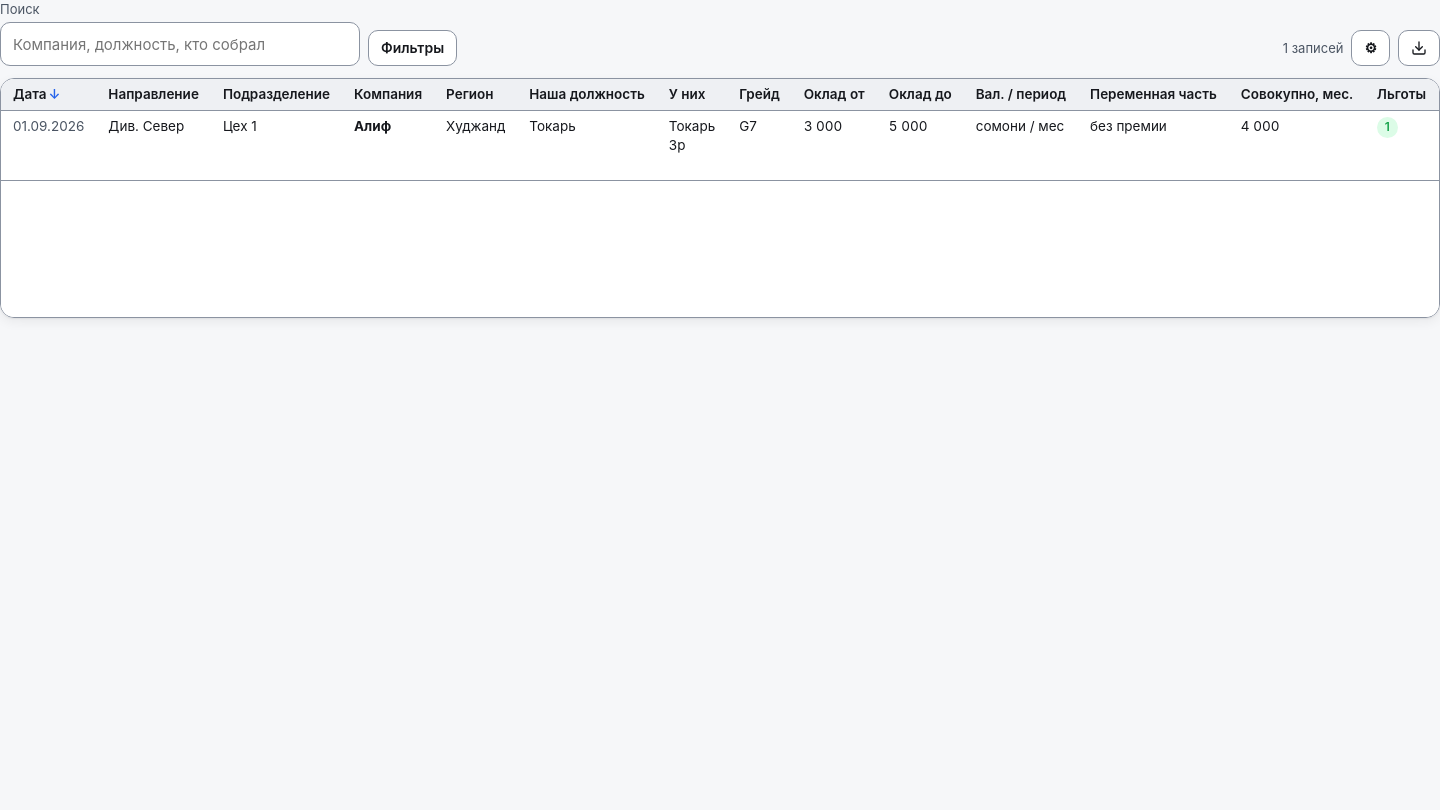
Test: кнопка «Фильтры» открывает панель со всеми фильтрами
expect the cell "Алиф" is shown: met, box 342,111 -> 434,180
Click the button "Фильтры".
click(413, 48)  # box 368,30 -> 457,66
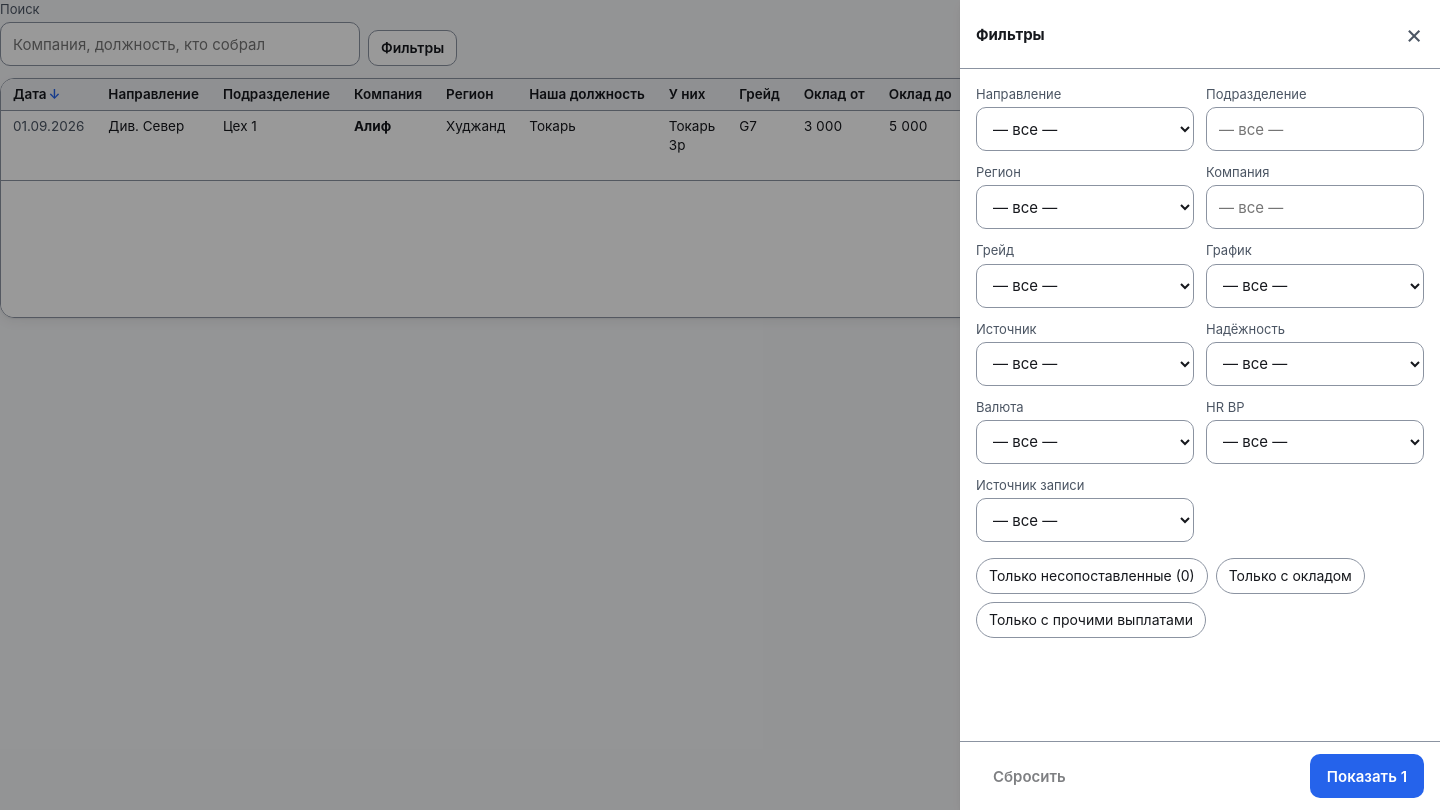
expect the dropdown labelled "Направление" is shown: met, box 976,107 -> 1194,151
expect the dropdown labelled "Подразделение" is shown: met, box 1206,107 -> 1424,151
expect the dropdown labelled "Регион" is shown: met, box 976,185 -> 1194,229
